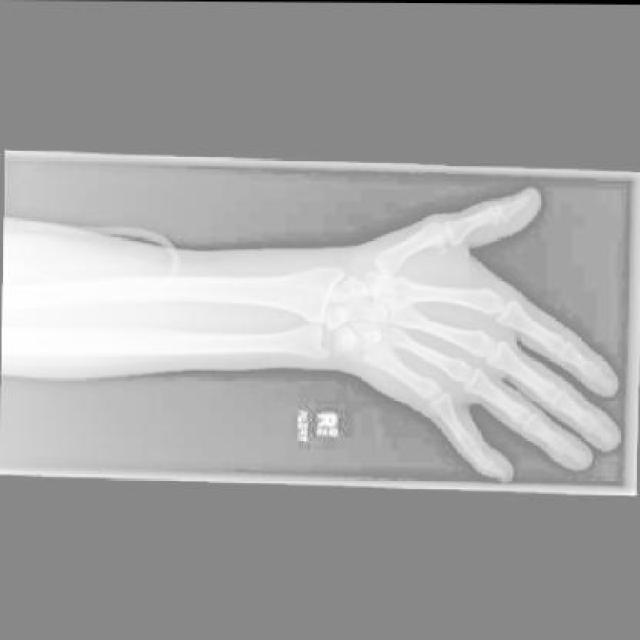Fracture: (334, 331, 356, 351)
